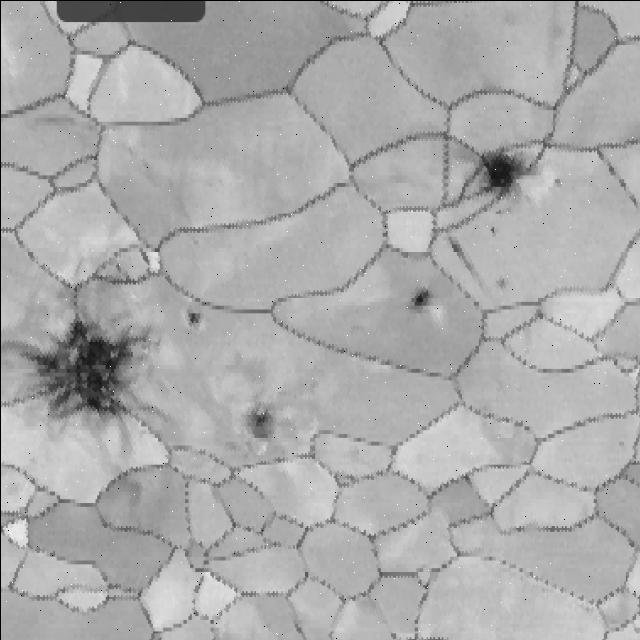good_void: (4, 305, 160, 460), (462, 148, 540, 213), (244, 409, 286, 456), (446, 232, 478, 278), (396, 280, 435, 313), (548, 171, 566, 193), (184, 310, 205, 327), (494, 269, 510, 290), (486, 219, 503, 237), (387, 627, 399, 640)
